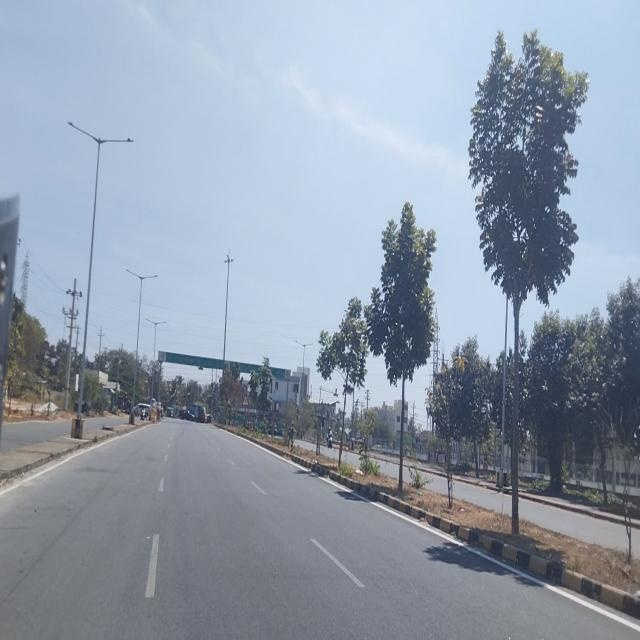bien_nguy_hiem: (241, 394, 250, 406)
